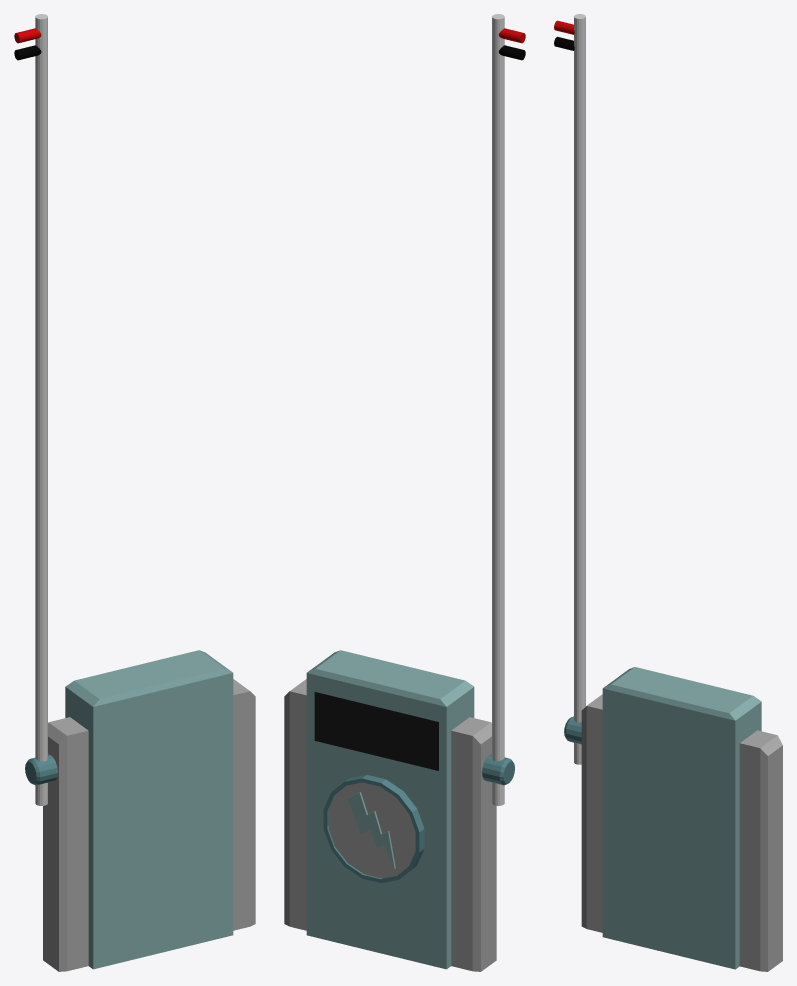
Rendered from ChargeStation.fbx.
The picture shows the model from 3 angles, left to right: view 1: azimuth 30°, elevation 25°; view 2: azimuth 150°, elevation 25°; view 3: azimuth 330°, elevation 25°; orthographic projection. The views are drawn at different scales.
Visible parts, largest first — view 1: ChargeStation, ChargeArm; view 2: ChargeStation, ChargeArm; view 3: ChargeStation, ChargeArm.
Boxes of the visible parts, <box> form: ChargeStation: <box>43,650,255,971</box>; ChargeArm: <box>14,14,57,805</box>; ChargeStation: <box>284,650,496,971</box>; ChargeArm: <box>482,14,525,805</box>; ChargeStation: <box>581,667,782,971</box>; ChargeArm: <box>554,14,585,764</box>.
Bounding box in the file's own units: 47.79 × 760 × 193.
